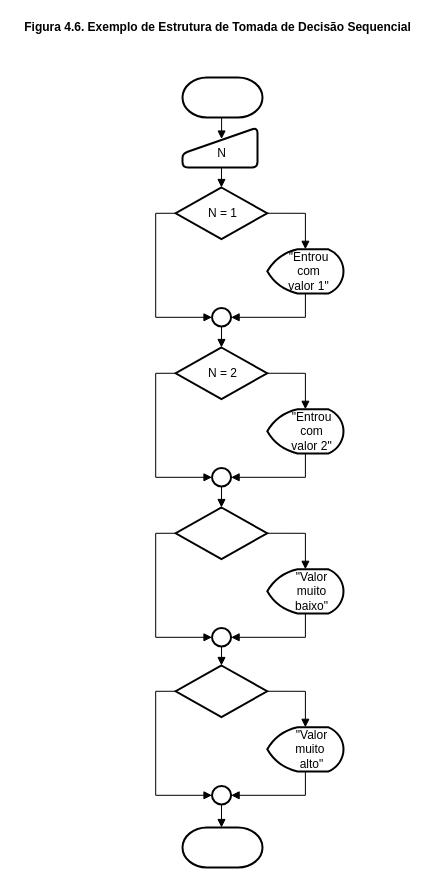
The diagram is 434 pixels wide and 885 high, and some of its shapes have lost their labels. The shapes that lost their labels are listed below. From the top down, each one's box as (x1, y1, x2, y2) in pixels, then its label:
(181, 76, 263, 118): Início
(174, 506, 268, 560): N < 1
(174, 664, 268, 718): N > 2
(181, 826, 263, 868): Fim
